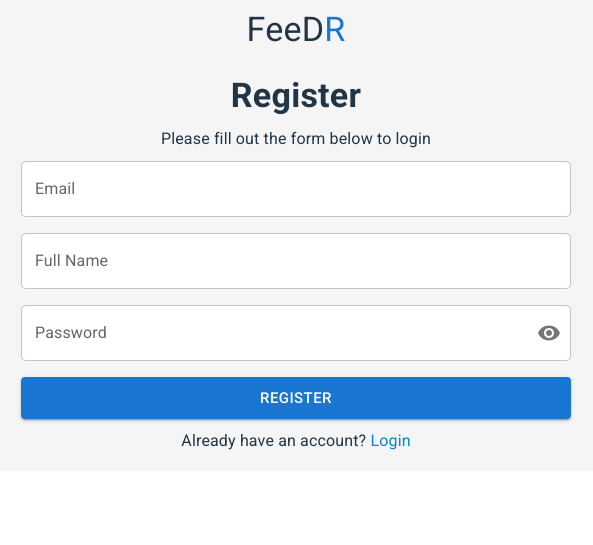
Scenario: shows error message for invalid email
Type "invalid-email" into the field labelled "Email" at (296, 189), box [21, 161, 571, 217]
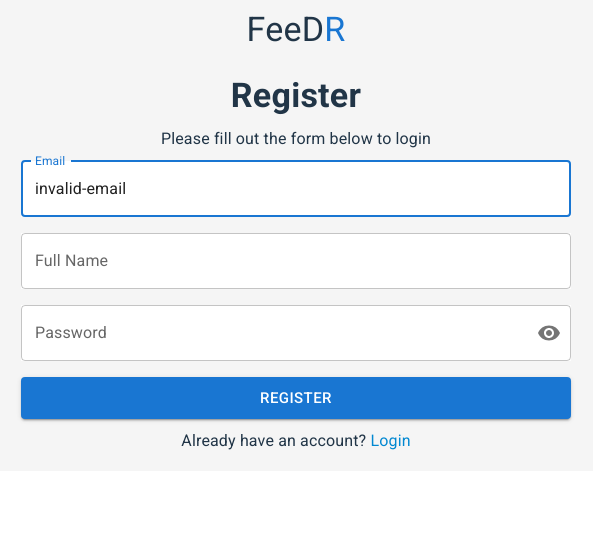
Click the button "Register" at (296, 398), box [21, 377, 571, 419]
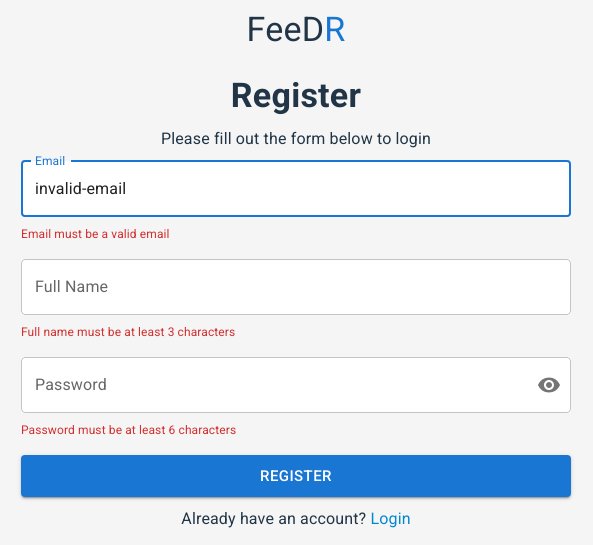
Expected: the text "Email must be a valid email" is shown, [21, 227, 170, 241]
